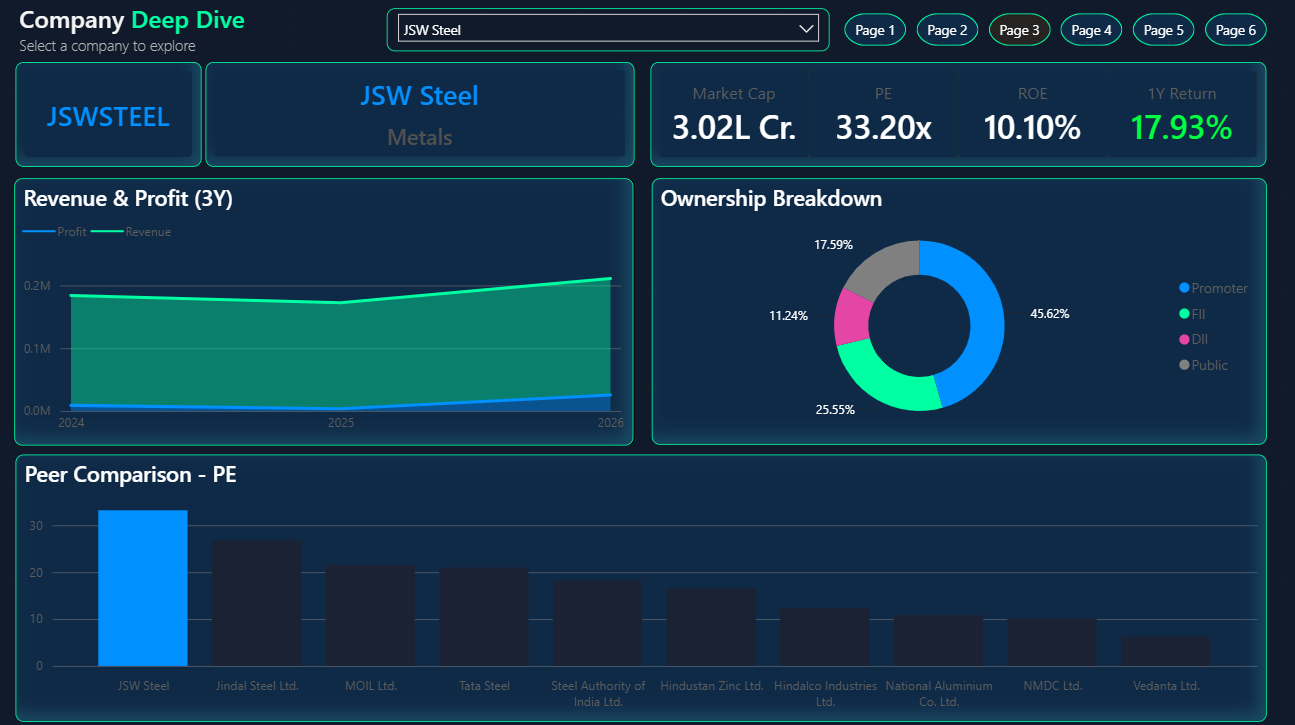

Layout of this report page (visuals, bound fields, positions):
{"tool":"powerbi","page":{"name":"Page 3","canvas":[1280,720],"ordinal":2},"visuals":[{"type":"textbox","box":[16,0,448,80],"z":0},{"type":"slicer","fields":{"Values":["Company (Company_Master).Company"]},"box":[382.8,11.2,436.4,42.4],"z":1000},{"type":"shape","box":[17.5,178.3,609.7,263.1],"z":2000},{"type":"donutChart","title":"Ownership Breakdown","fields":{"Y":["Sum(Shareholding.Promoter %)","Sum(Shareholding.FII %)","Sum(Shareholding.DII %)","Sum(Shareholding.Public %)"]},"box":[643.7,178.5,605.5,262.2],"z":3000},{"type":"cardVisual","fields":{"Data":["Company (Company_Master).Selected initial"]},"box":[17.2,64,183.4,103.4],"z":4000},{"type":"cardVisual","fields":{"Data":["Company (Company_Master).selected company","Company (Company_Master).selected sector"]},"box":[204.3,64,422.2,103.4],"z":5000},{"type":"cardVisual","fields":{"Data":["Avg(Company (Company_Master).Market Cap in L cr)","Avg(Company (Company_Master).PE)","Avg(Company (Company_Master).ROE (%age))","Avg(Company (Company_Master).1Y Return (%age))"]},"box":[642.5,64,606.8,103.4],"z":6000},{"type":"stackedAreaChart","title":"Revenue & Profit (3Y)","fields":{"Category":["Financial Histroy.FY"],"Y":["Sum(Financial Histroy.Profit)","Sum(Financial Histroy.Revenue)"]},"box":[16,178.5,609.2,263.4],"z":7000},{"type":"clusteredColumnChart","title":"Peer Comparison - PE","fields":{"Category":["Peer_Companies.Company"],"Y":["Company (Company_Master).Peer Metric Value"]},"box":[17.2,450.5,1232,263.4],"z":8000},{"type":"pageNavigator","box":[833.2,16,416,32],"z":9000}]}

Visuals, with their boxes in screenshot pixels (x1, y1, x2, y2), scaled from the page's 1280x720 canvas onto the 1295x725 screenshot:
textbox: <region>16, 0, 469, 81</region>
slicer - Company (Company_Master).Company: <region>387, 11, 829, 54</region>
shape: <region>18, 180, 635, 444</region>
"Ownership Breakdown" donutChart: <region>651, 180, 1264, 444</region>
cardVisual - Company (Company_Master).Selected initial: <region>17, 64, 203, 169</region>
cardVisual - Company (Company_Master).selected company x Company (Company_Master).selected sector: <region>207, 64, 634, 169</region>
cardVisual - Avg(Company (Company_Master).Market Cap in L cr) x Avg(Company (Company_Master).PE): <region>650, 64, 1264, 169</region>
"Revenue & Profit (3Y)" stackedAreaChart: <region>16, 180, 633, 445</region>
"Peer Comparison - PE" clusteredColumnChart: <region>17, 454, 1264, 719</region>
pageNavigator: <region>843, 16, 1264, 48</region>
